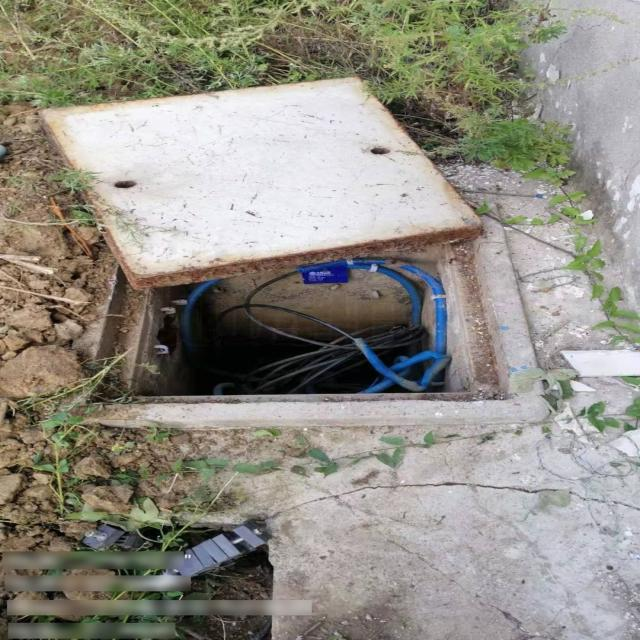Faulty: (34, 75, 556, 426)
